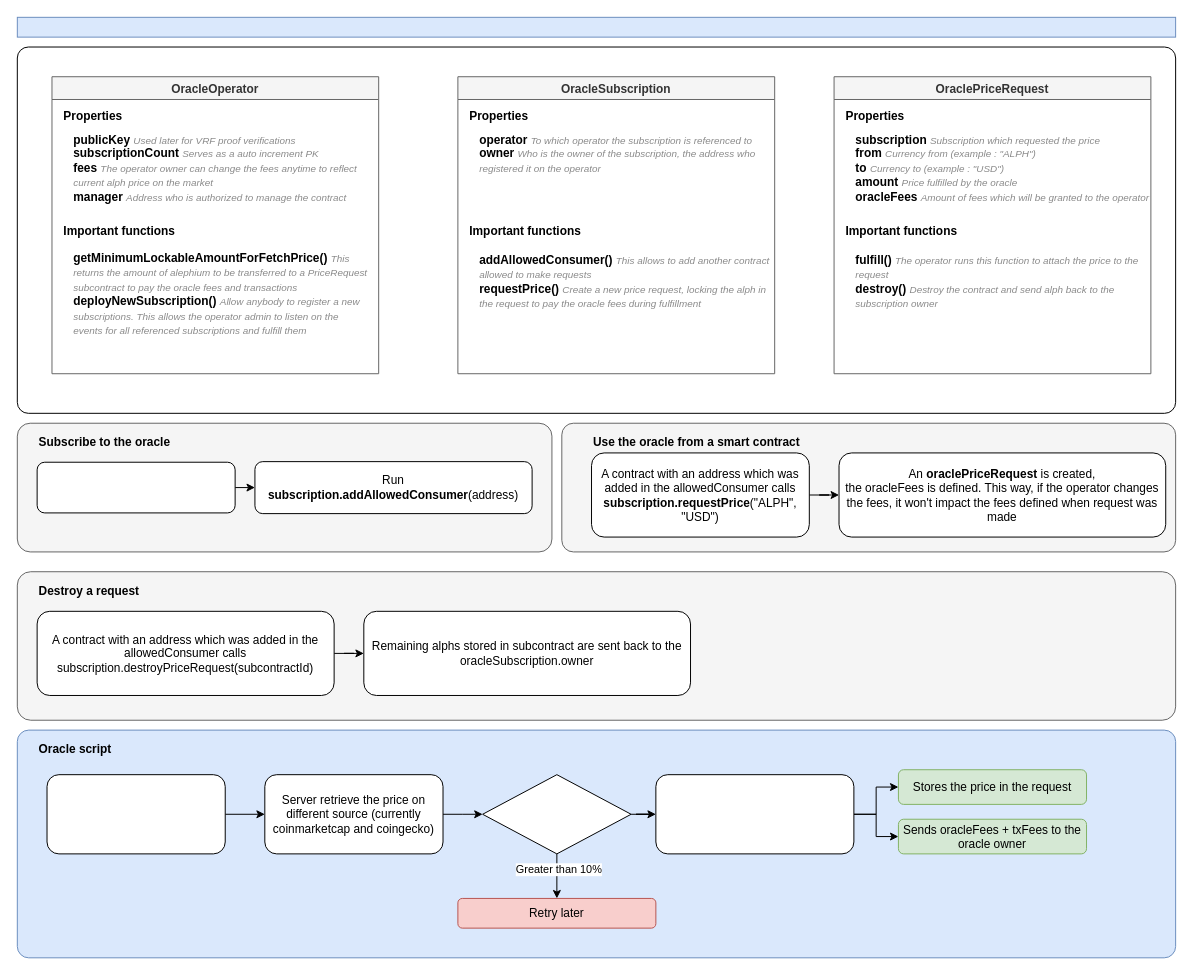
Some shapes in this 1193 by 975 pixel diagram are drawn without their labels. Each missing label, with the centre of its shape:
An user runs oracle.deployNewSubscripiton (): [135,487]
Check discrepency between sources: [556,814]
Oracle server listen OracleOperator.PriceRequested events: [135,814]
Price Fetch workflows: [596,26]
Run OraclePriceRequest.fulfill(): [754,814]
